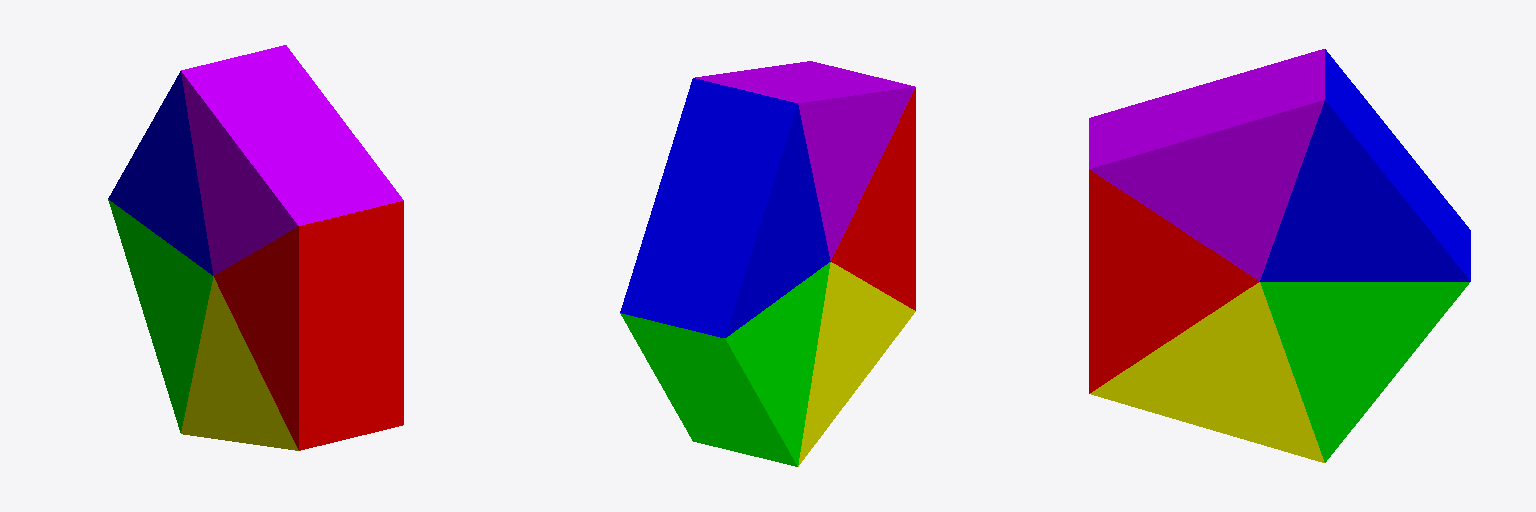
The model's file is model_slot_x5drum.obj.
The picture shows the model from 3 angles: view 1: azimuth 30°, elevation 25°; view 2: azimuth 150°, elevation 25°; view 3: azimuth 270°, elevation 25°; orthographic projection.
Visible parts, largest first — view 1: pCylinder1; view 2: pCylinder1; view 3: pCylinder1.
Part boxes in pixels (left/top/right/bottom): pCylinder1: left=108, top=45, right=403, bottom=450; pCylinder1: left=620, top=61, right=915, bottom=466; pCylinder1: left=1089, top=49, right=1470, bottom=462.
Bounding box in the file's own units: 0.3821 × 1.26 × 1.2.